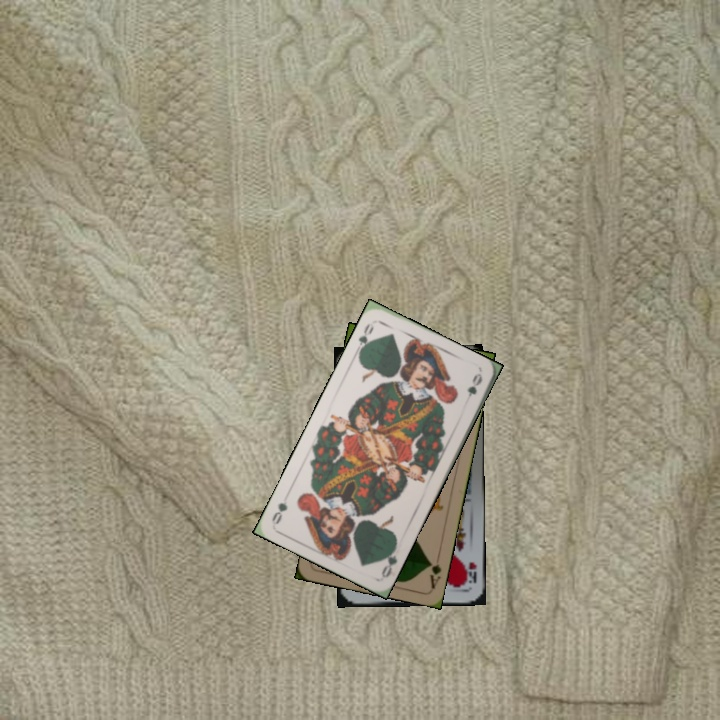GA: (424, 550, 444, 591)
GO: (377, 540, 400, 580), (354, 320, 376, 356)
HK: (461, 558, 479, 589)
